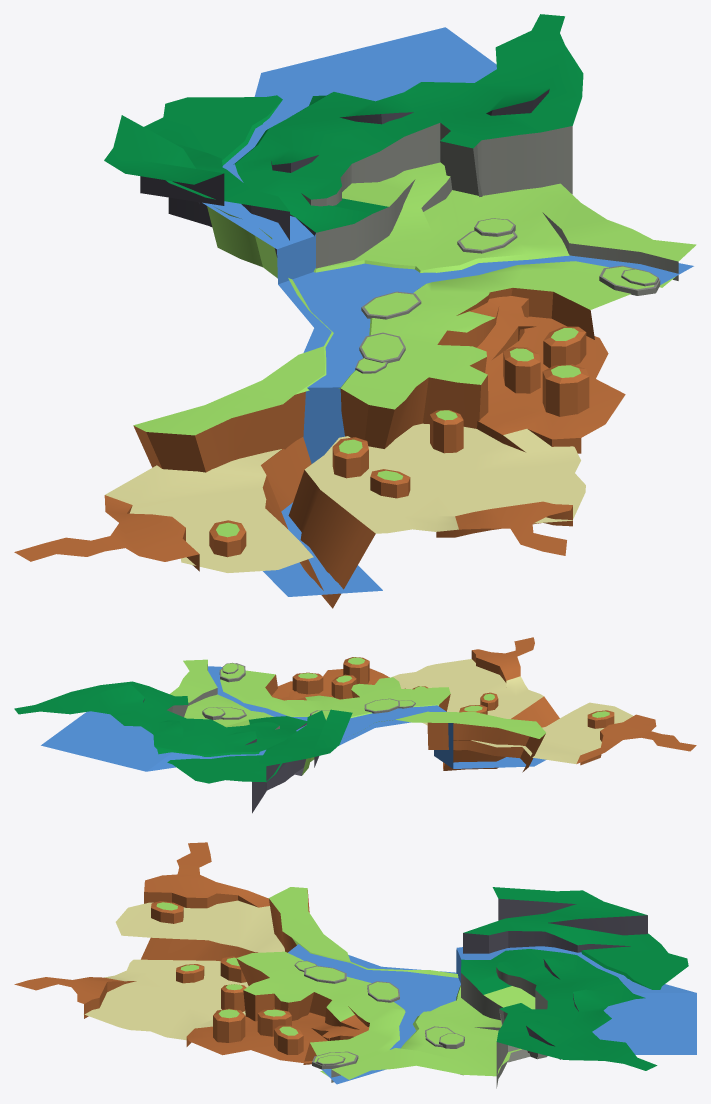
File: Open World Plan.fbx
3 renders of one model, top to bottom at view 1: azimuth 30°, elevation 25°; view 2: azimuth 150°, elevation 25°; view 3: azimuth 270°, elevation 25°, orthographic. The views are drawn at different scales.
Visible parts, largest first — view 1: Ground Whitebox, Rivers.001; view 2: Ground Whitebox, Rivers.001; view 3: Ground Whitebox, Rivers.001.
Boxes of the visible parts, bbox=[...] form: Ground Whitebox: bbox=[14, 14, 696, 608]; Rivers.001: bbox=[202, 27, 693, 596]; Ground Whitebox: bbox=[14, 637, 696, 813]; Rivers.001: bbox=[41, 666, 546, 771]; Ground Whitebox: bbox=[14, 842, 688, 1088]; Rivers.001: bbox=[288, 944, 696, 1084].
Bounding box in the file's own units: 7839 × 1787 × 7991.
